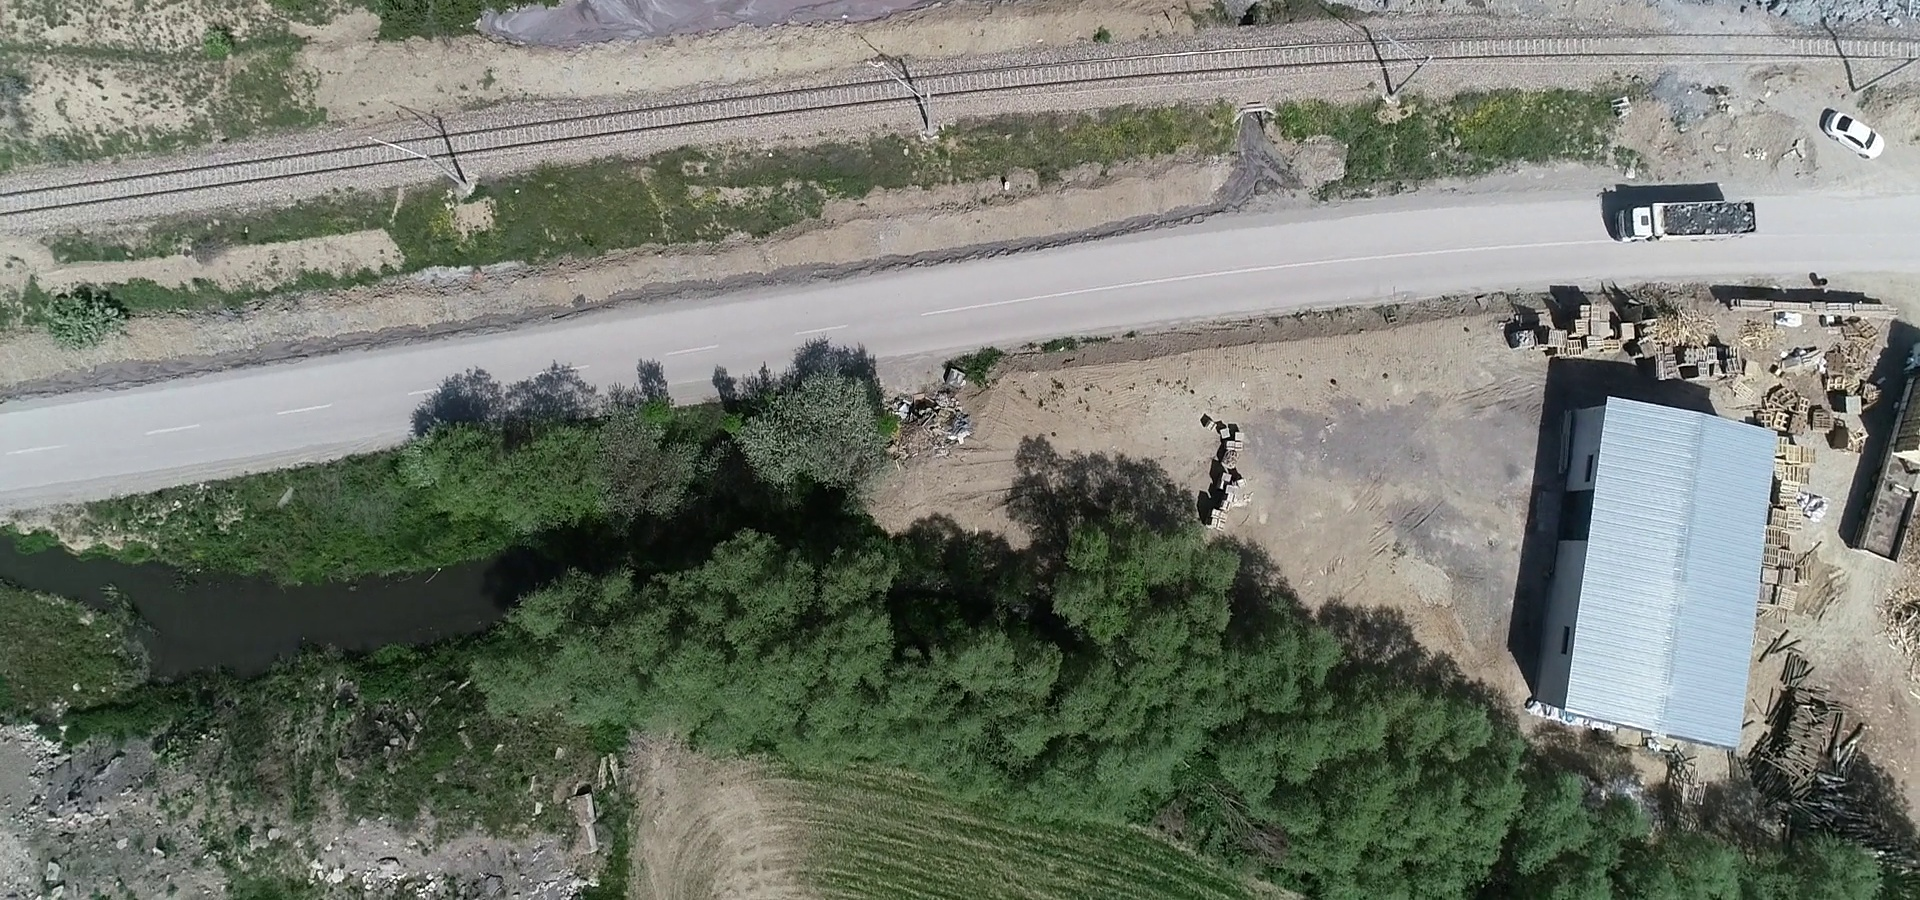araba: (1821, 105, 1891, 164)
kamyon: (1607, 196, 1769, 249)
